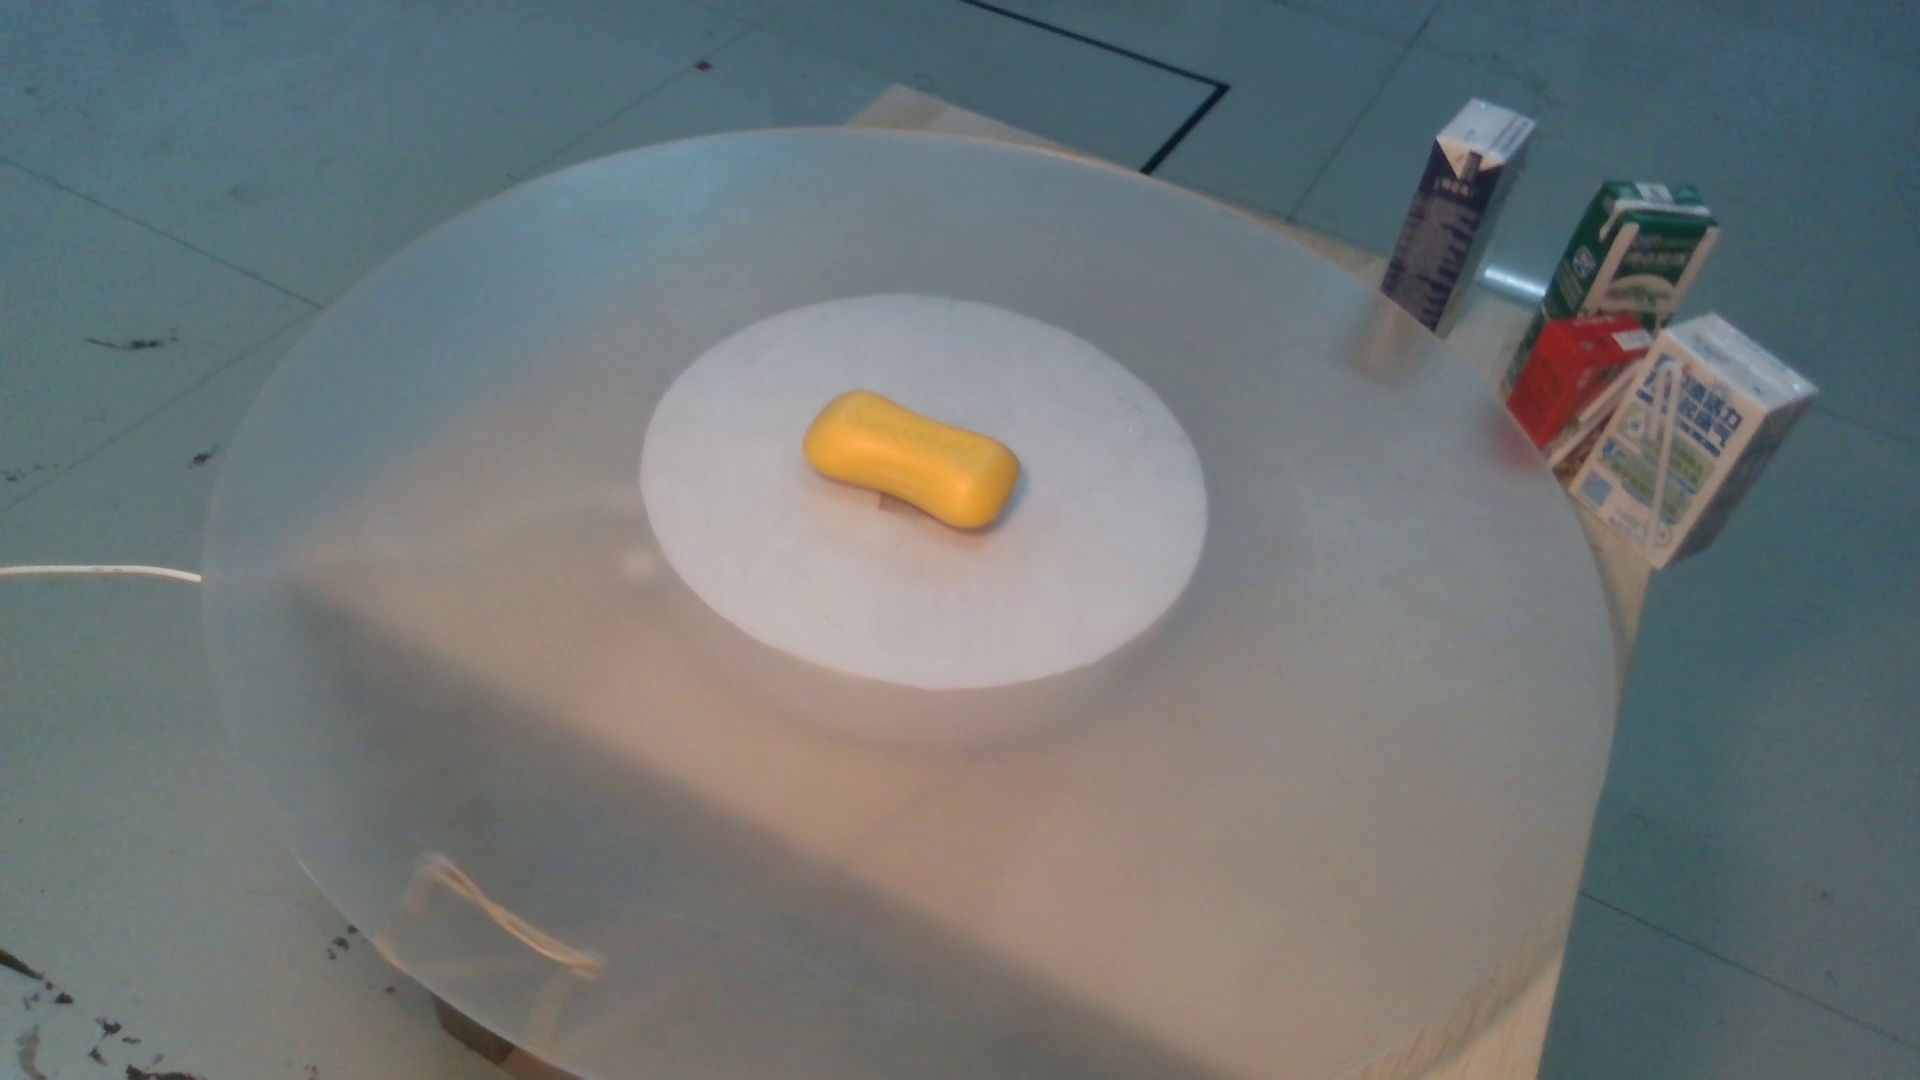CA003_1: (789, 367, 1048, 545)
